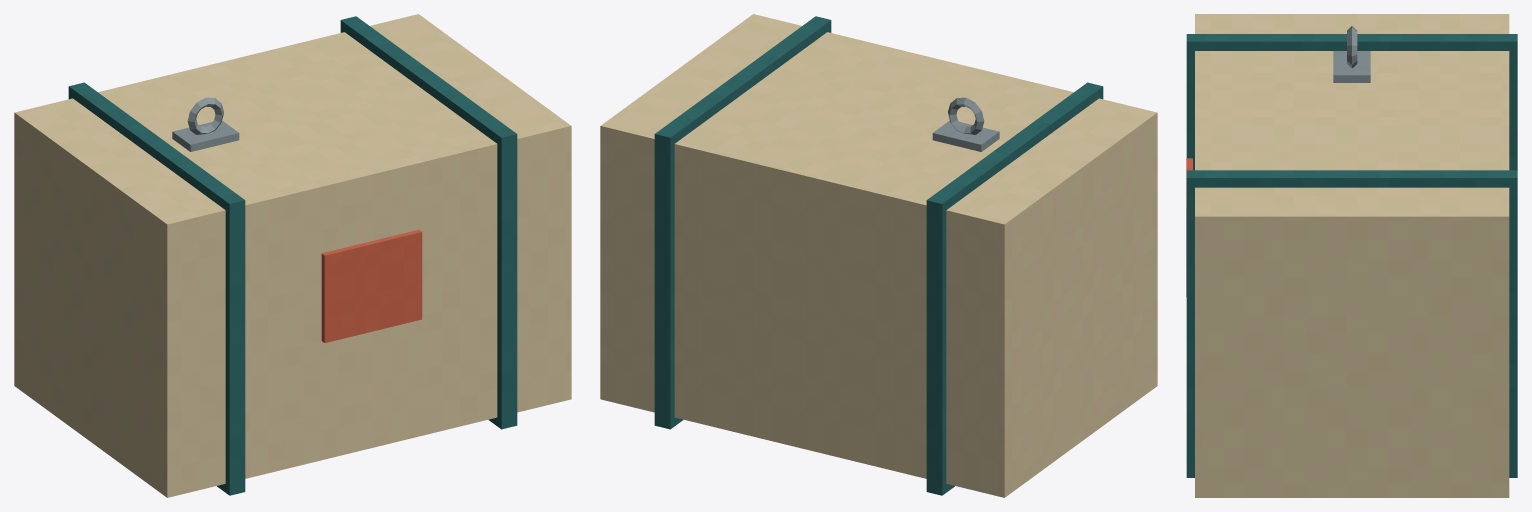
Rendered from crate-lod-2.glb.
The picture shows the model from 3 angles, left to right: view 1: azimuth 30°, elevation 25°; view 2: azimuth 150°, elevation 25°; view 3: azimuth 270°, elevation 25°; orthographic projection. The views are drawn at different scales.
Visible parts, largest first — view 1: crate_lod_2; view 2: crate_lod_2; view 3: crate_lod_2.
Part boxes in pixels (x1,y1,x2,y2): crate_lod_2: [14, 14, 571, 497]; crate_lod_2: [600, 14, 1157, 497]; crate_lod_2: [1186, 14, 1517, 497].
Bounding box in the file's own units: 2.32 × 1.97 × 1.6.
1 material, 1 textured.
